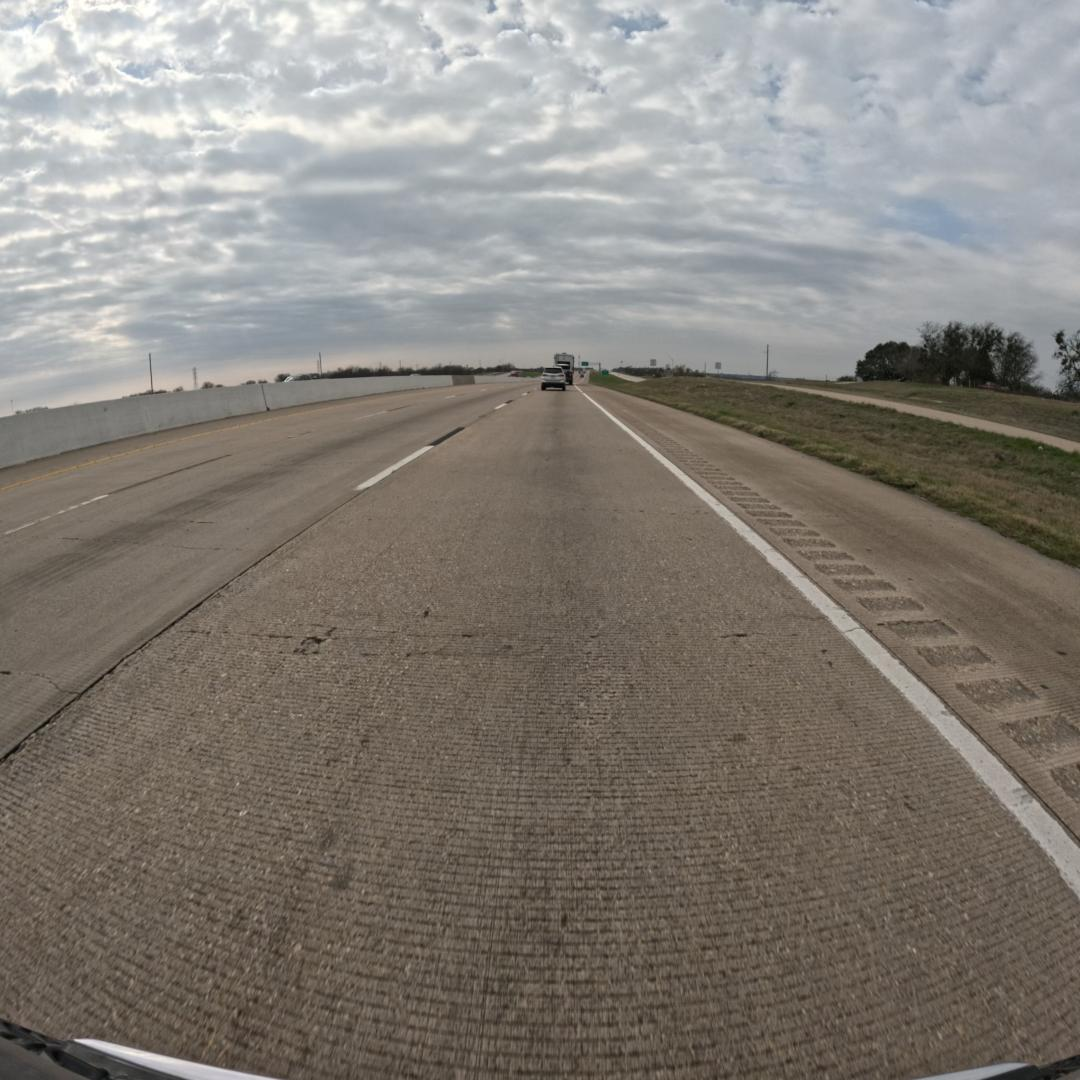lane0: (0, 389, 1080, 1077)
lane1: (0, 390, 517, 760)
